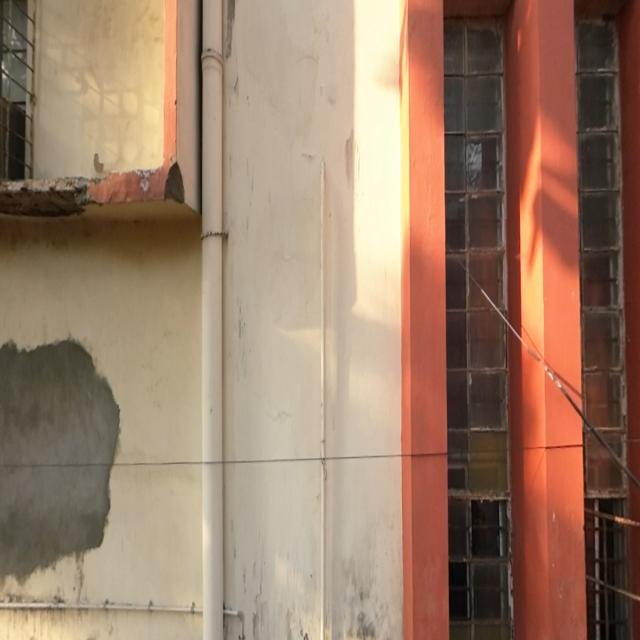Incomplete Plaster Work: (0, 341, 119, 579)
Spalling: (0, 160, 184, 216)
